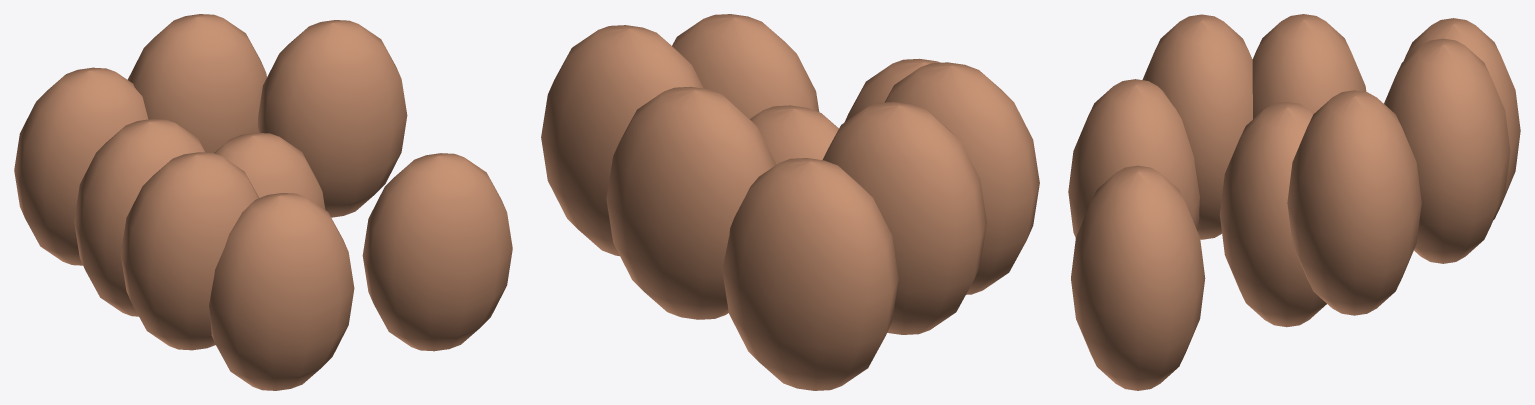
Rendered from item_topping.glb.
3 renders of one model, left to right at view 1: azimuth 30°, elevation 25°; view 2: azimuth 150°, elevation 25°; view 3: azimuth 270°, elevation 25°, orthographic. The views are drawn at different scales.
Visible parts, largest first — view 1: model; view 2: model; view 3: model.
Boxes of the visible parts, x1,y1,x2,y2 form: model: (14, 14, 512, 390); model: (541, 14, 1039, 390); model: (1068, 14, 1520, 390).
Bounding box in the file's own units: 0.26 × 0.18 × 0.26.
